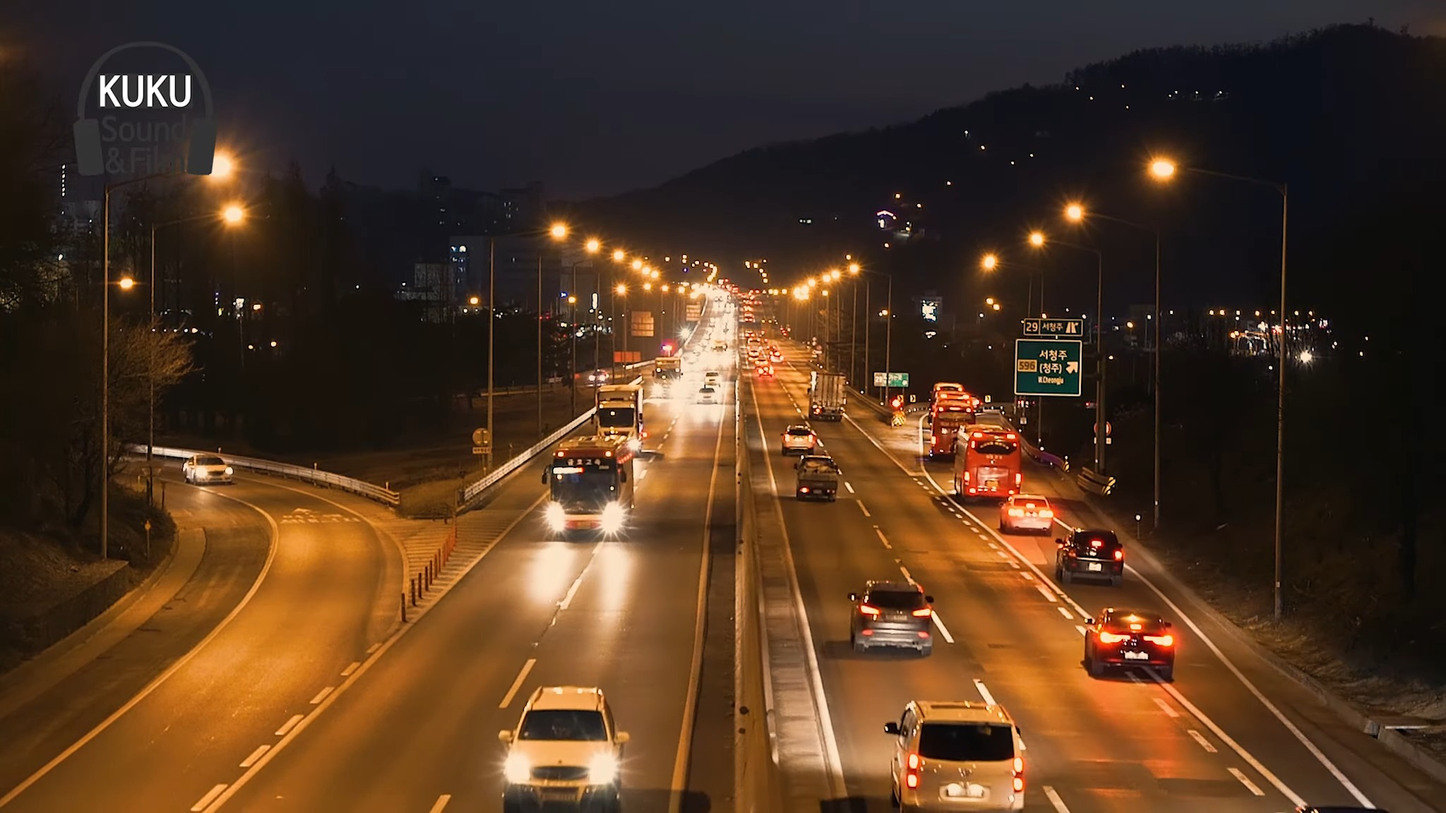car: (892, 695, 1034, 813), (503, 681, 624, 810), (540, 441, 631, 540), (848, 570, 939, 658), (1081, 604, 1179, 680), (1052, 523, 1128, 587), (793, 453, 849, 505), (996, 493, 1055, 538)
